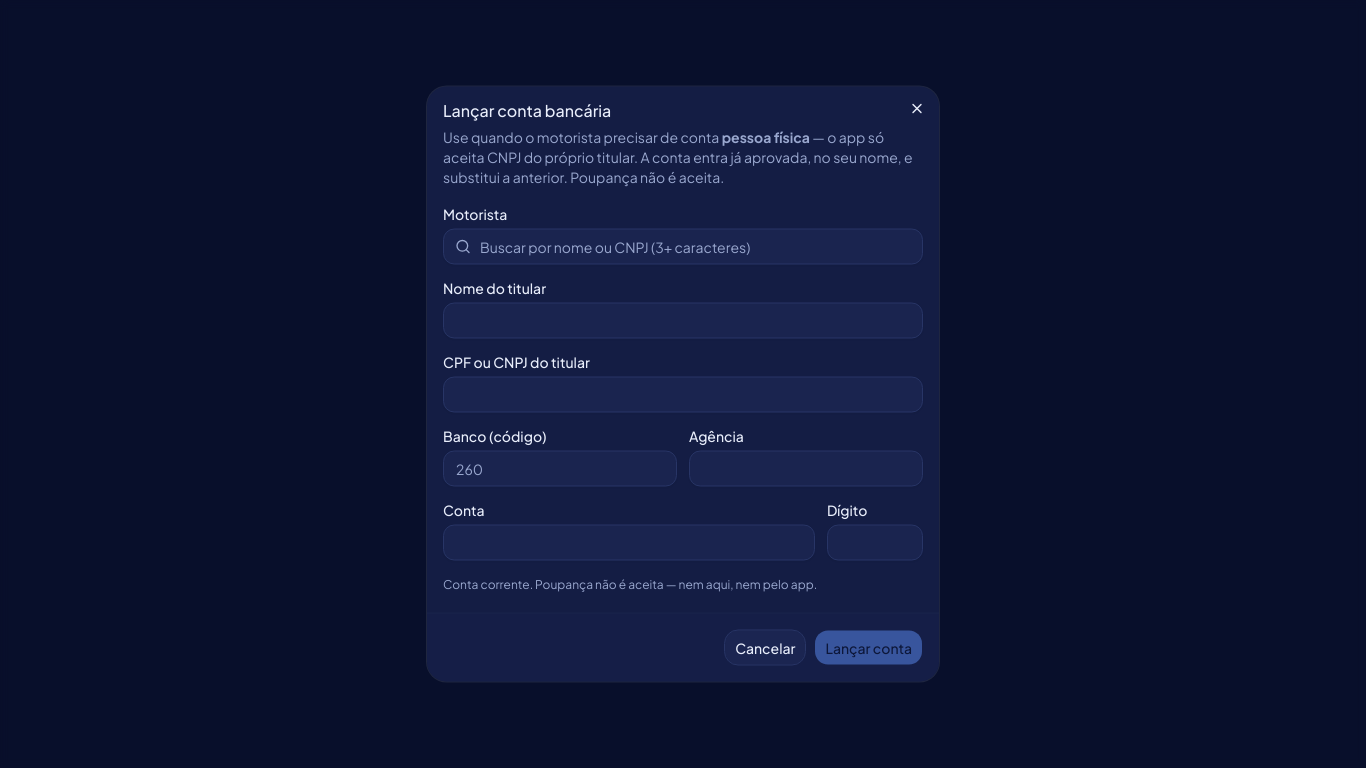
Test: LancarContaDialog › o CAMPO mostra o documento mascarado enquanto a pessoa digita
Type "11222333000181" into the field labelled "CPF ou CNPJ do titular" at (683, 394), box [443,376,923,412]
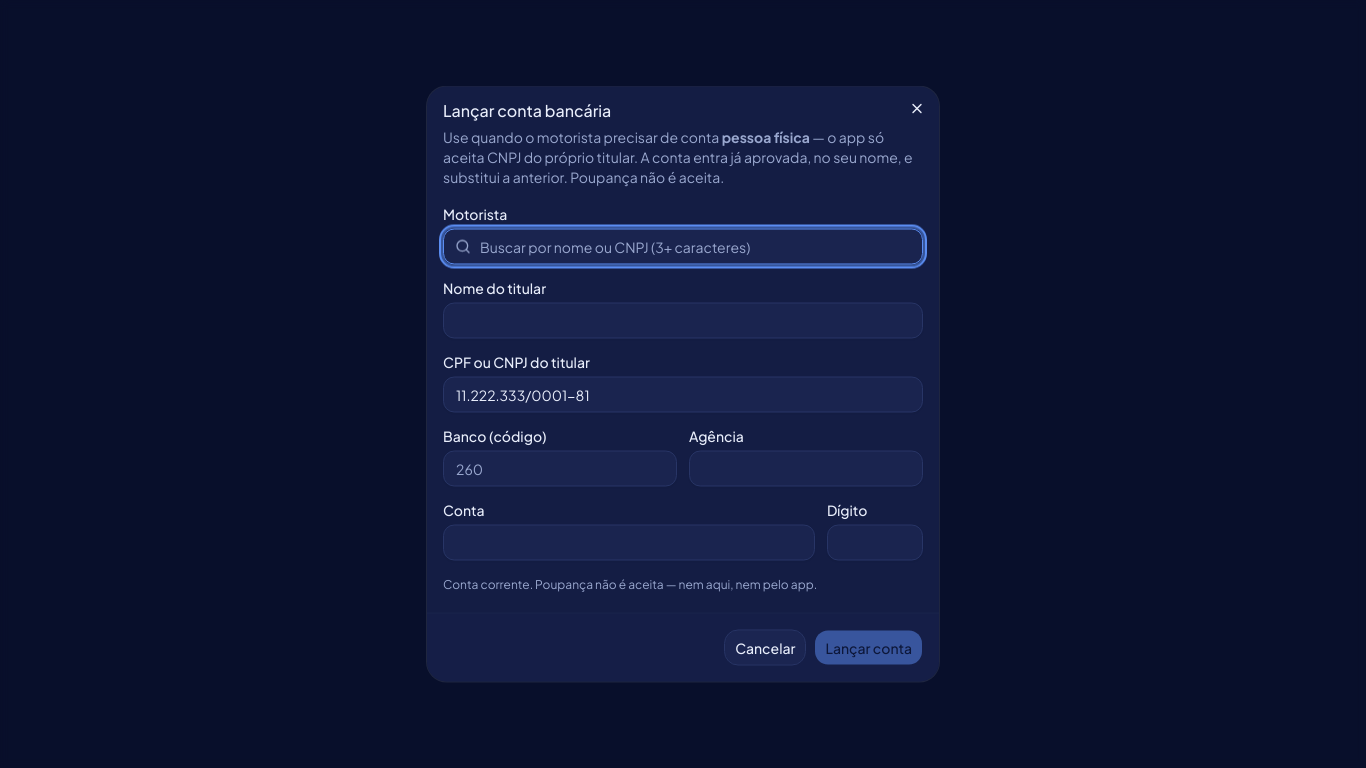
expect the field labelled "CPF ou CNPJ do titular" holds "11.222.333/0001-81": met, box [443,376,923,412]
